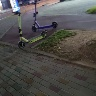beam: (27, 1, 60, 33)
gcooter: (10, 9, 48, 50)
